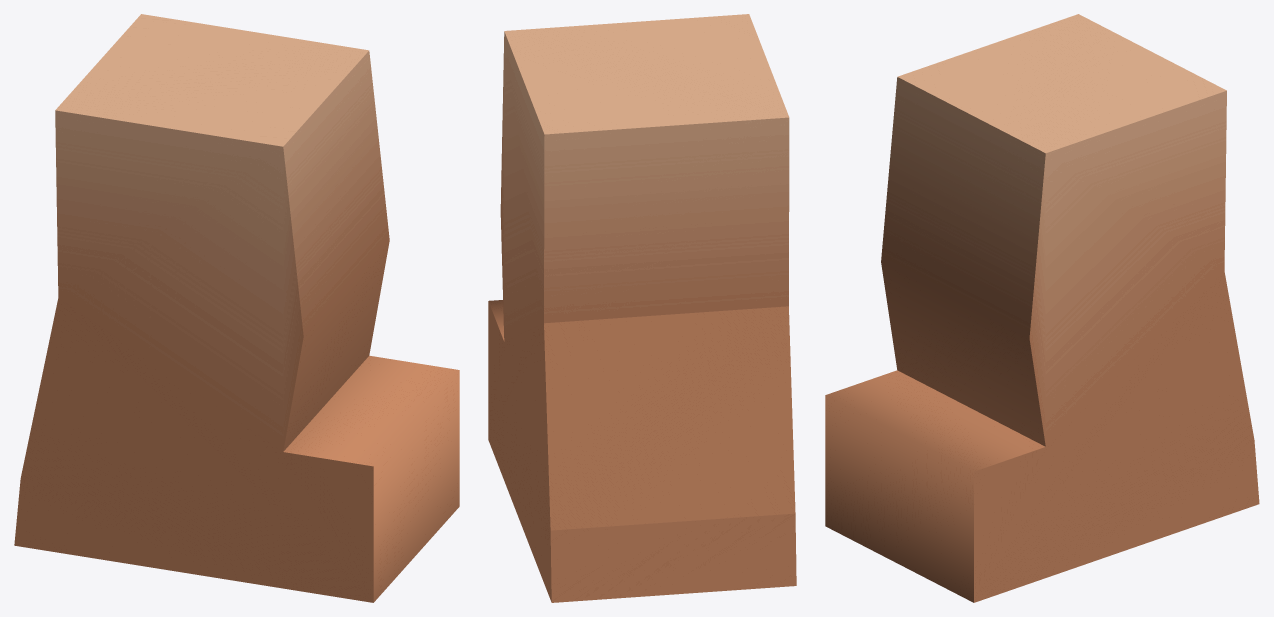
File: leg-right_lev2.glb
3 views of the same model, side by side, from view 1: azimuth 30°, elevation 25°; view 2: azimuth 150°, elevation 25°; view 3: azimuth 270°, elevation 25° (orthographic). The views are drawn at different scales.
Parts seen in each view (by area): view 1: leg-right_lev2; view 2: leg-right_lev2; view 3: leg-right_lev2.
Boxes of the visible parts, <box> form: leg-right_lev2: <box>14,14,459,602</box>; leg-right_lev2: <box>488,14,796,602</box>; leg-right_lev2: <box>825,14,1259,602</box>.
Bounding box in the file's own units: 0.8145 × 0.9194 × 0.8515.
Materials: 1 (1 with a texture image).
